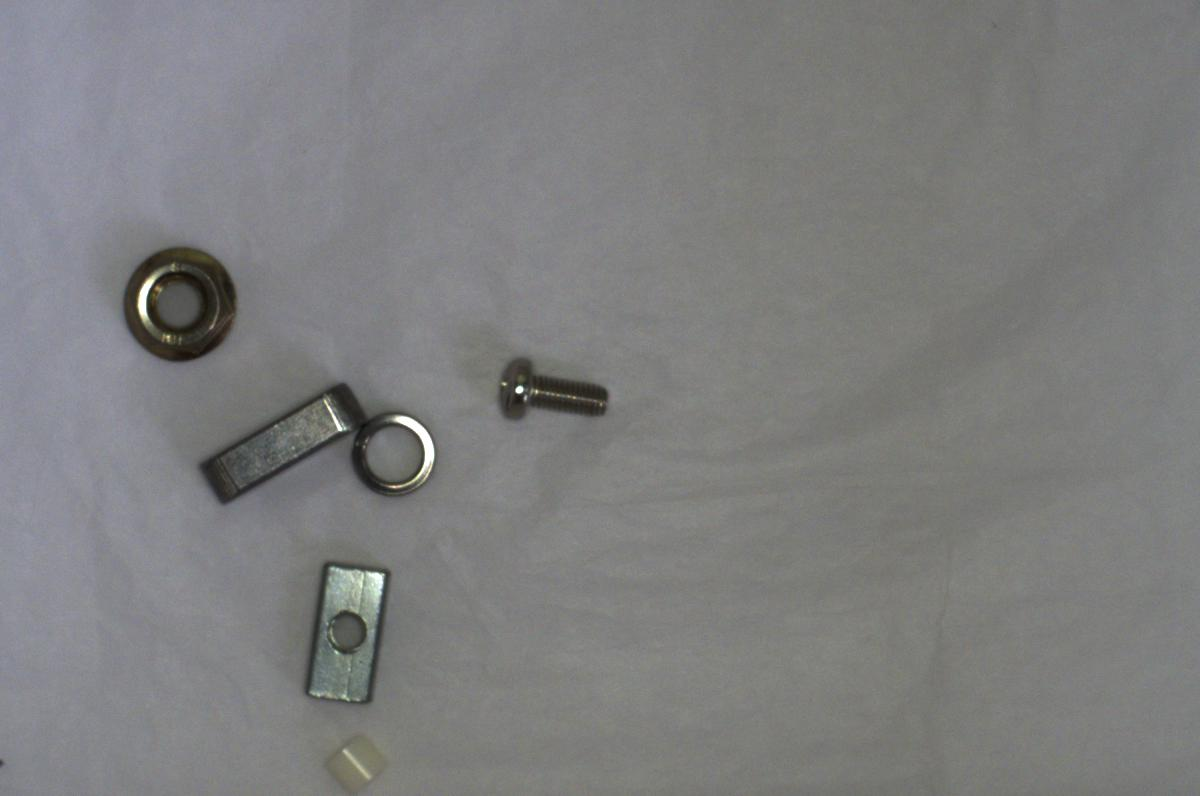Flange nut: (114, 236, 248, 372)
Keybar: (191, 374, 360, 508)
Plastic cushion pillar: (321, 726, 397, 793)
Rectangular nut: (294, 558, 386, 713)
Round head screw: (495, 348, 618, 428)
Spring washer: (347, 407, 441, 502)
